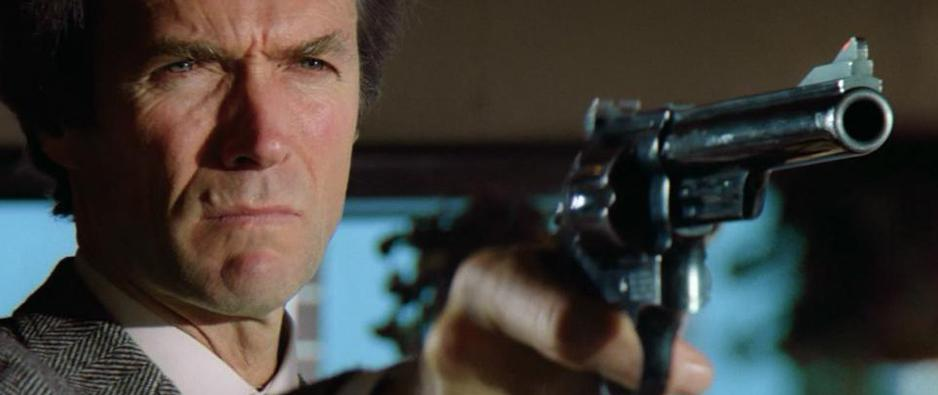Revolver: (538, 26, 914, 391), (519, 67, 907, 377), (714, 14, 723, 43)
